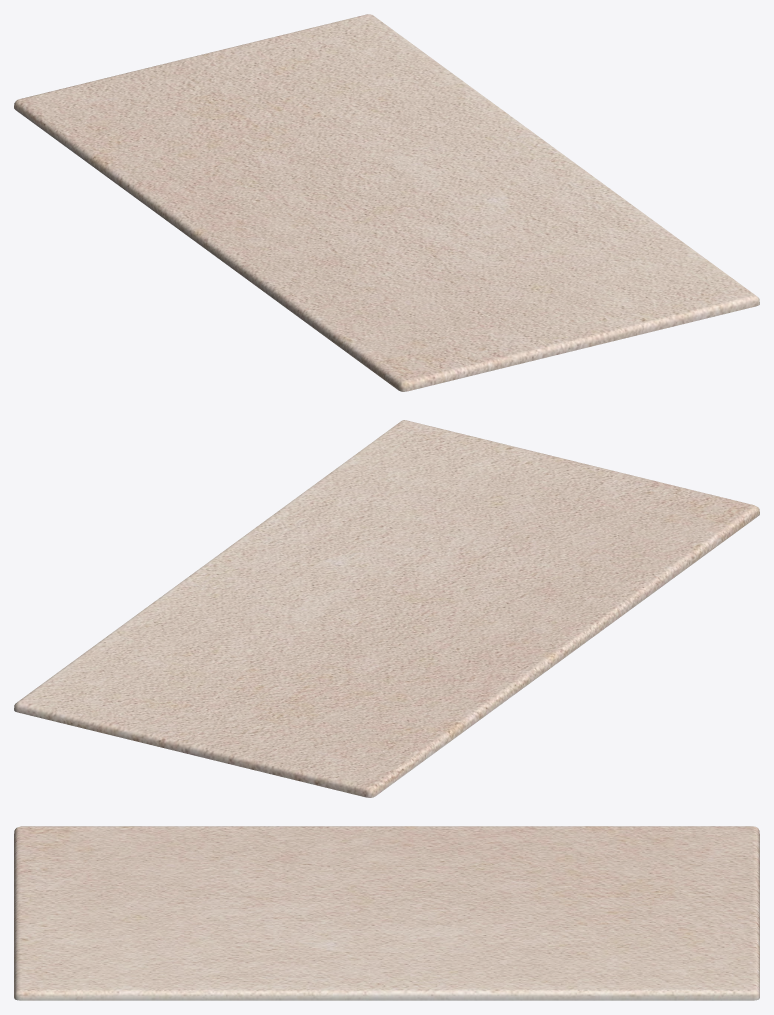
File: stoense_dywan_z_krotkim_wosiem_50426802.glb
The picture shows the model from 3 angles, top to bottom: view 1: azimuth 30°, elevation 25°; view 2: azimuth 150°, elevation 25°; view 3: azimuth 270°, elevation 25°; orthographic projection. The views are drawn at different scales.
Parts seen in each view (by area): view 1: stoense_dywan_z_krotkim_wosiem_50426802; view 2: stoense_dywan_z_krotkim_wosiem_50426802; view 3: stoense_dywan_z_krotkim_wosiem_50426802.
Boxes of the visible parts, x1,y1,x2,y2 form: stoense_dywan_z_krotkim_wosiem_50426802: [14, 14, 759, 391]; stoense_dywan_z_krotkim_wosiem_50426802: [14, 420, 759, 797]; stoense_dywan_z_krotkim_wosiem_50426802: [14, 826, 759, 1000].
Size of the model in its own units: 0.8 by 0.018 by 1.5.
1 material, 1 textured.
